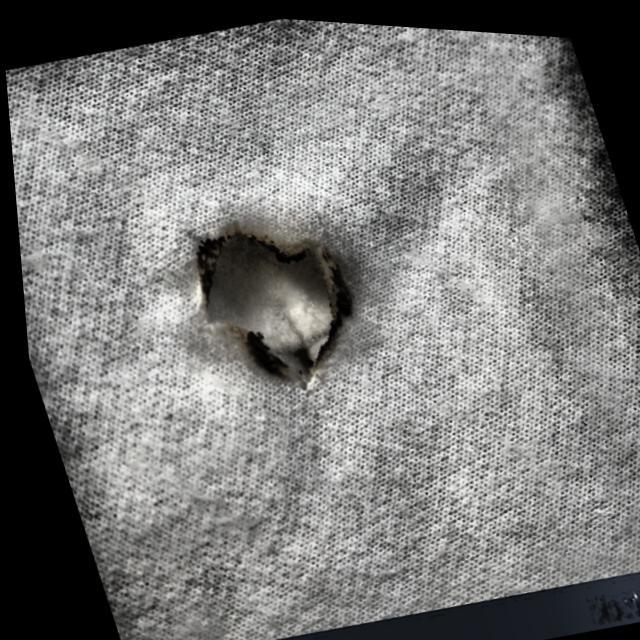Hole: (144, 169, 390, 422)
